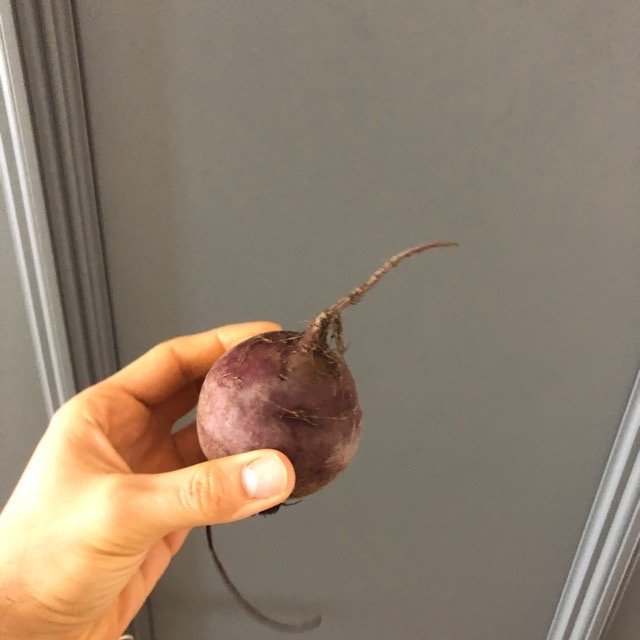beet: (197, 242, 462, 632)
